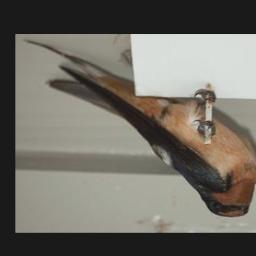Swallow: (21, 43, 256, 219)
